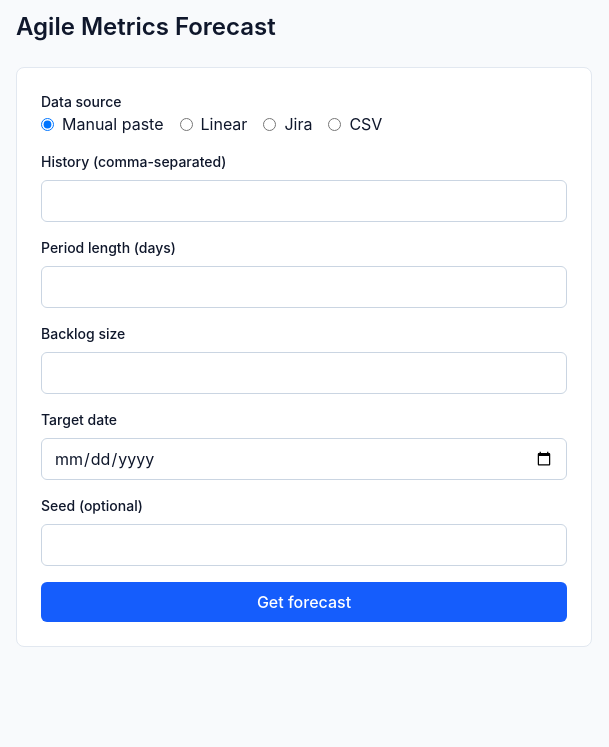
Test: App - Linear data-source toggle (spec 006) › switches to the Linear fields and hides history when Linear mode is selected
Click the radio button labelled "Linear": [186, 124] box x1=180 y1=118 x2=192 y2=130
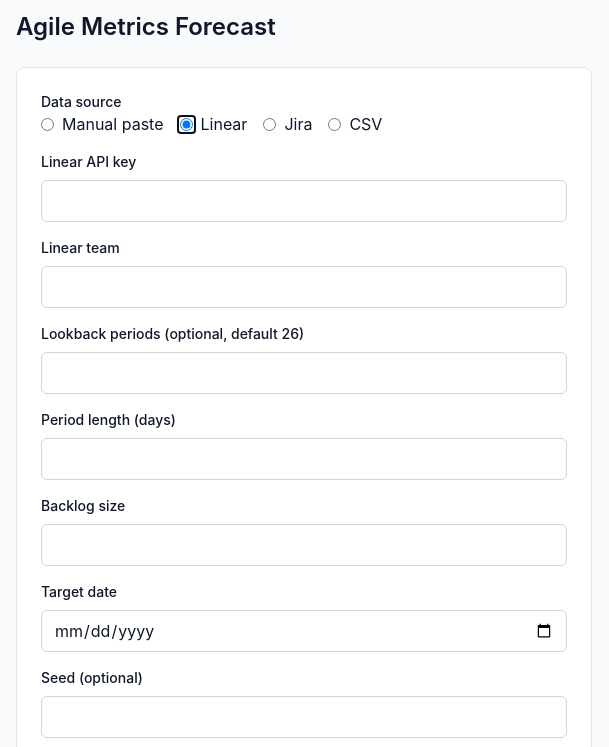
Expected: the password field labelled "Linear API key" is shown, x1=41 y1=180 x2=567 y2=222
Result: the label labelled "History" is gone
